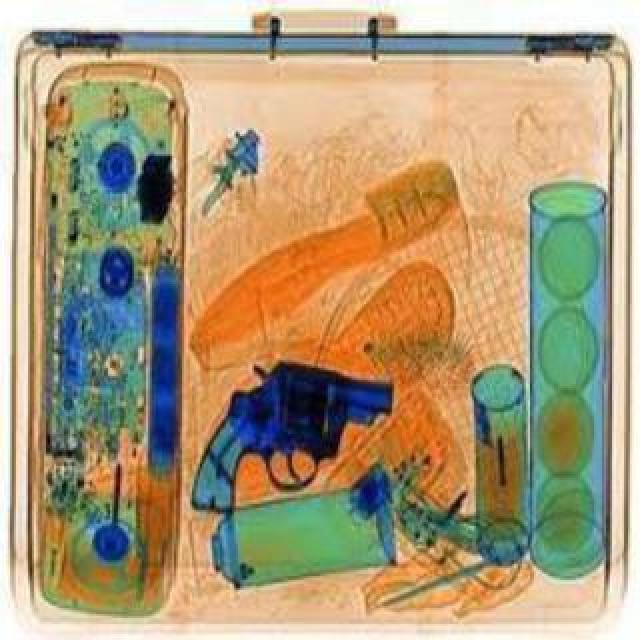gun: (186, 352, 394, 514)
